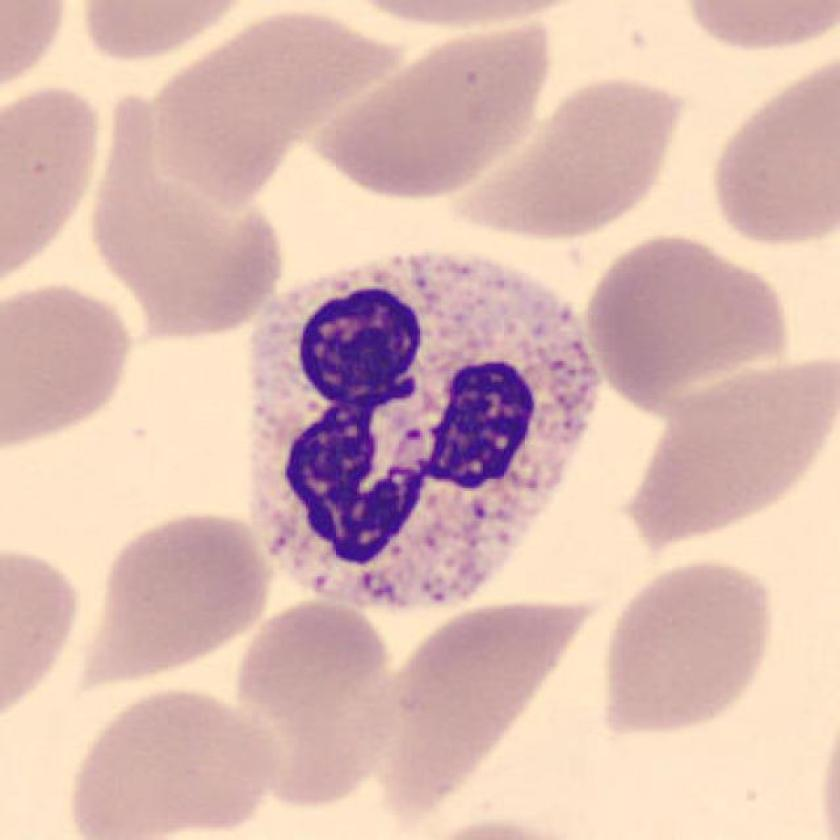neutrophil: (249, 255, 598, 617)
